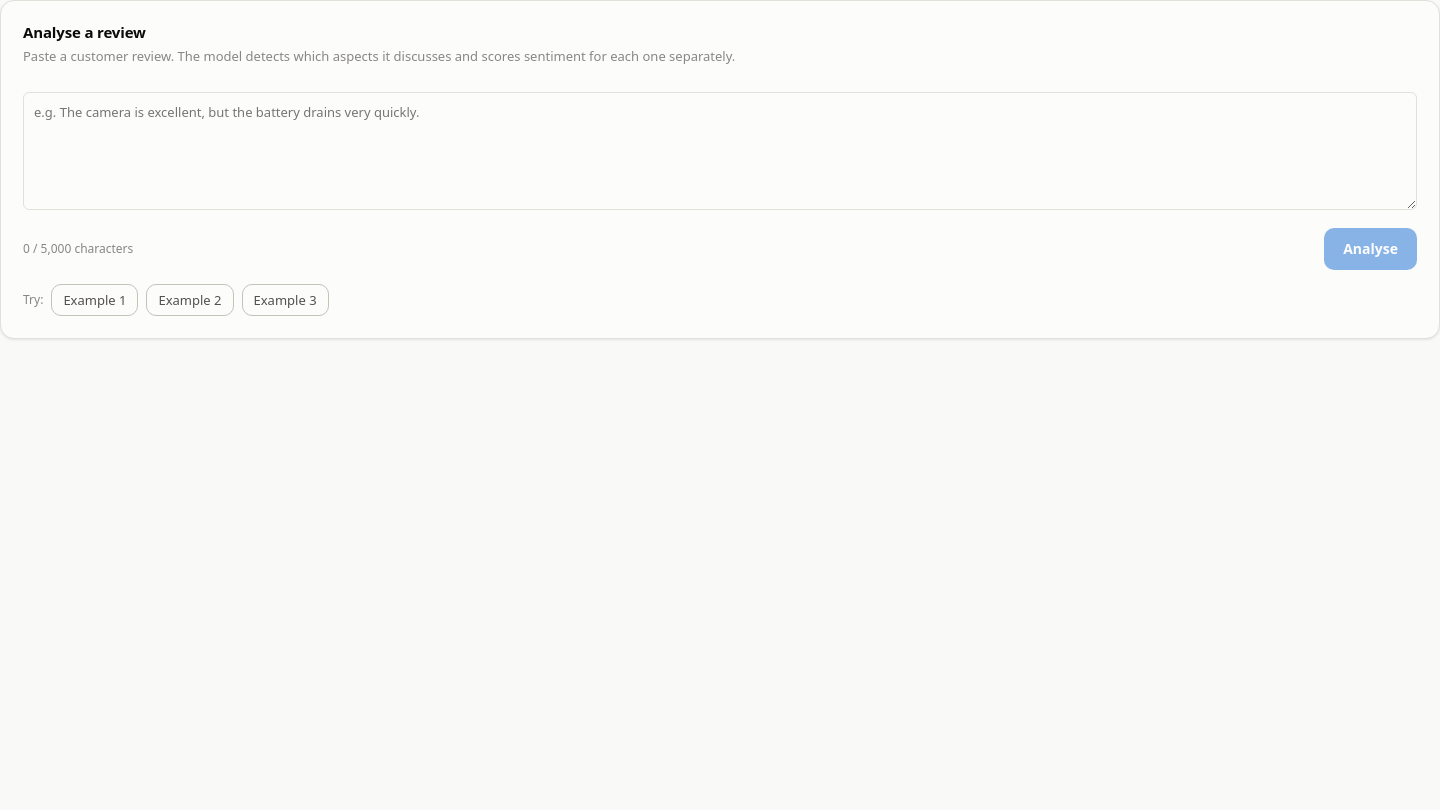
Test case: result rendering › renders every aspect with polarity, score and both confidences
Type "Great camera but poor battery." into the text box named "review text".
click(720, 151); type("Great camera but poor battery.")  # box left=23, top=92, right=1417, bottom=210
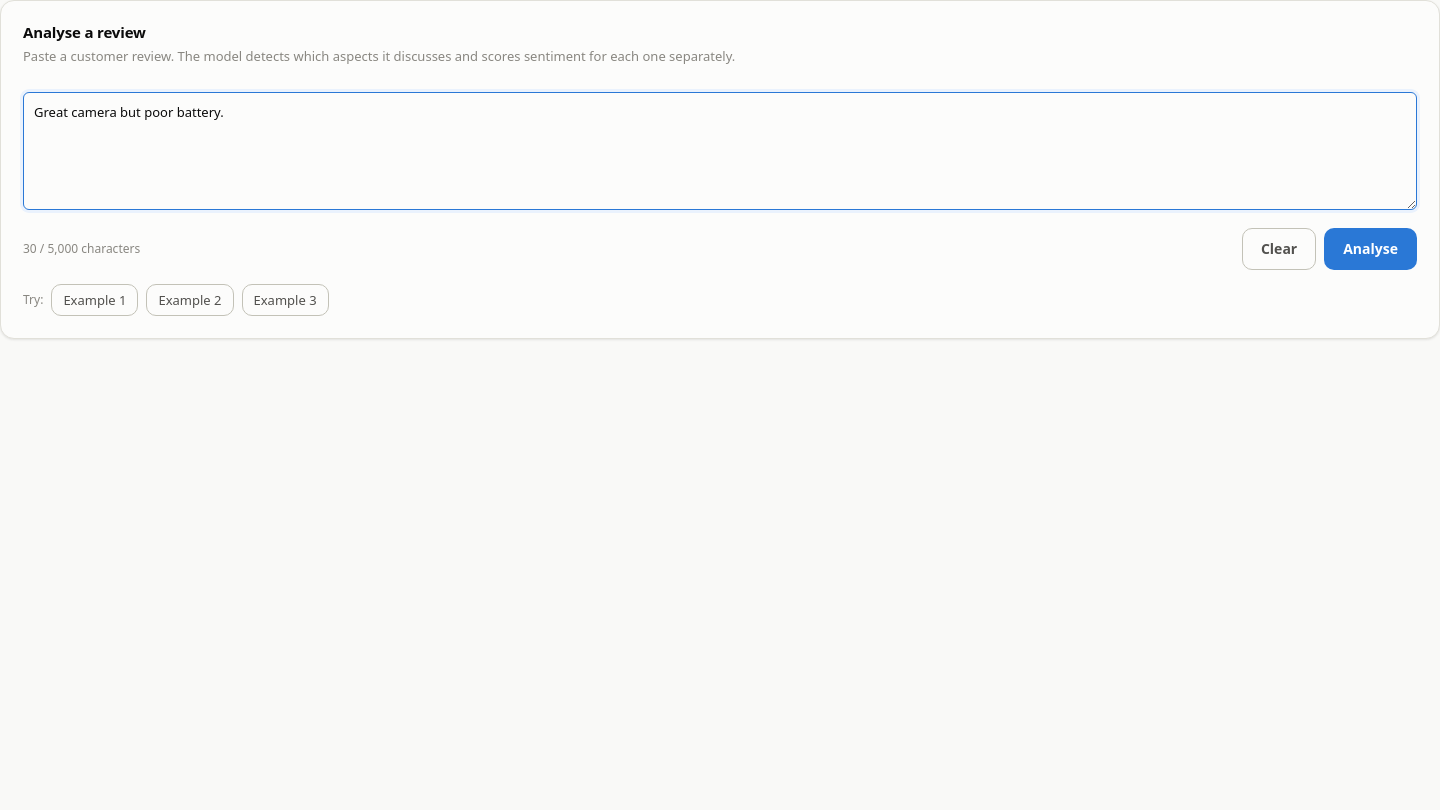
Click the button "Analyse".
click(1371, 249)  # box left=1324, top=228, right=1417, bottom=270
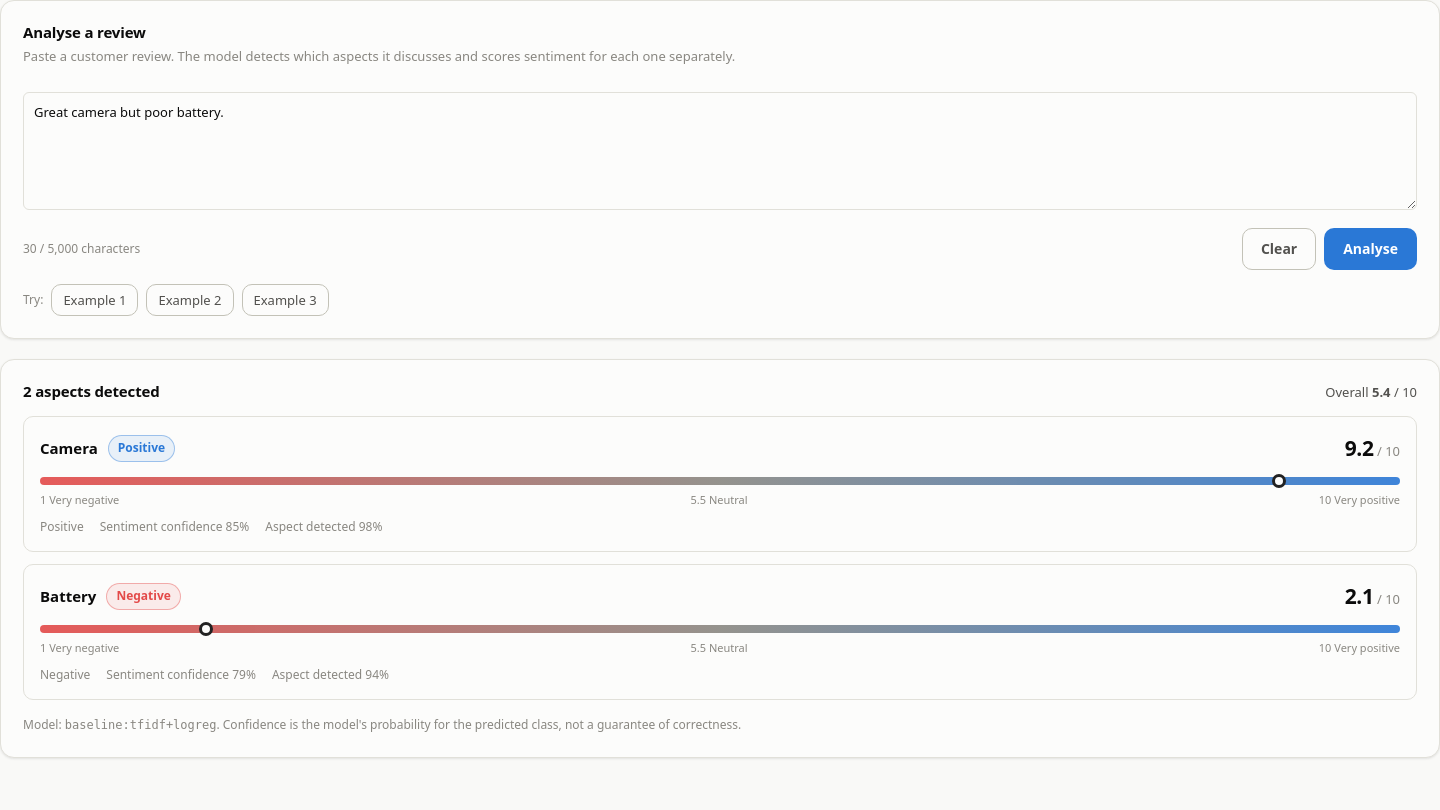
Check: the text "Camera" is shown, box left=40, top=437, right=98, bottom=460
Check: the text "Battery" is shown, box left=40, top=585, right=96, bottom=608
Check: the text "9.2" is shown, box left=1345, top=434, right=1374, bottom=462
